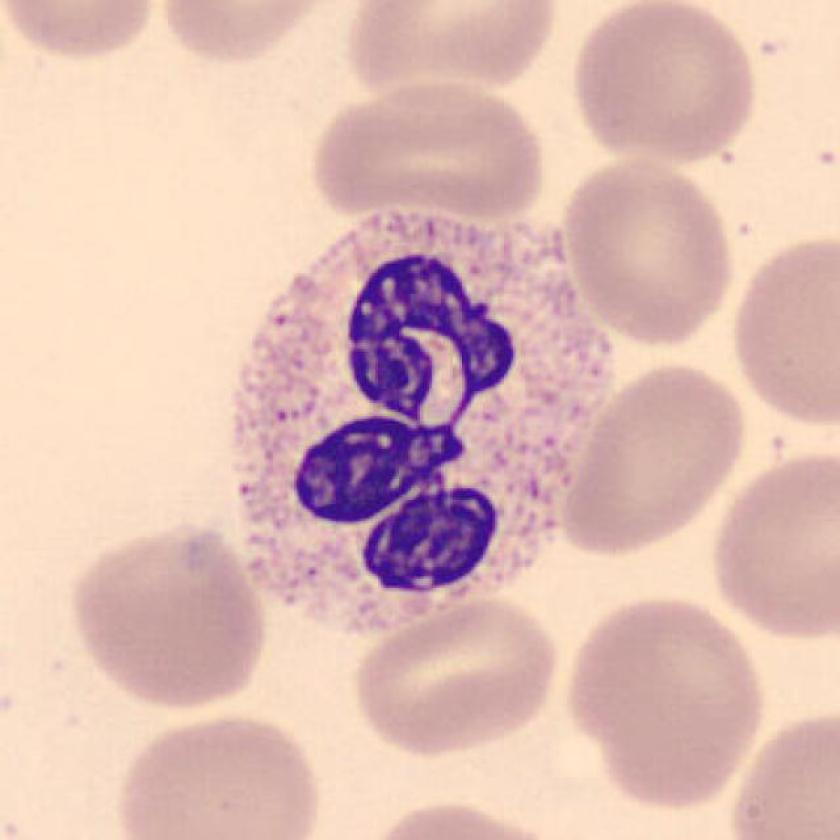neutrophil: (234, 211, 612, 632)
